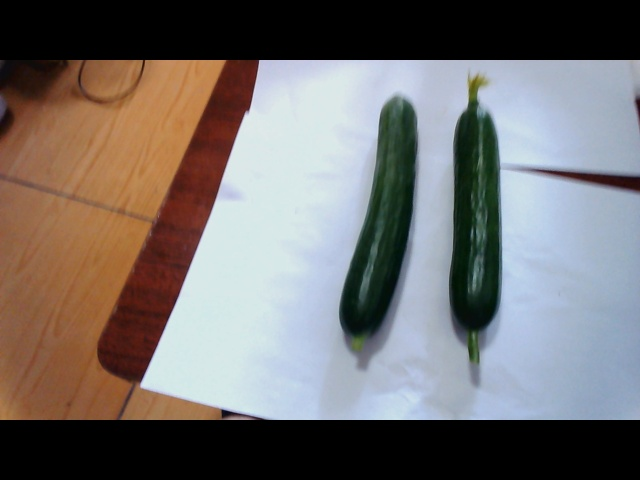cucumber: (332, 88, 423, 356), (445, 87, 520, 377)
